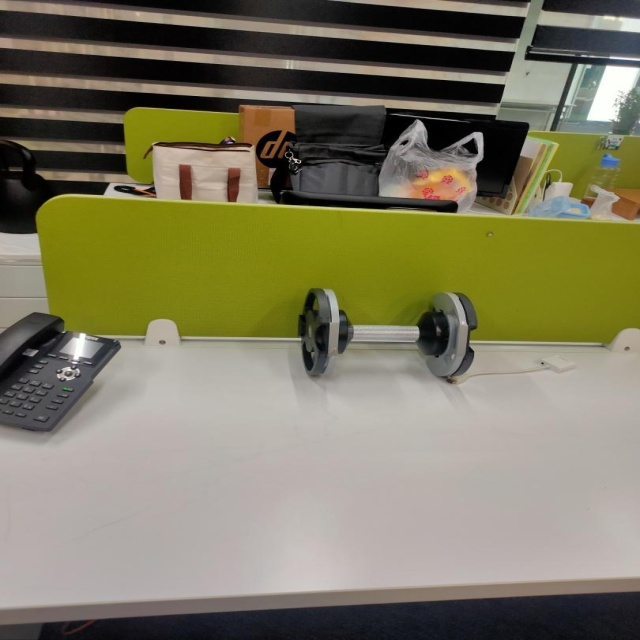02-4kg: (296, 287, 480, 379)
